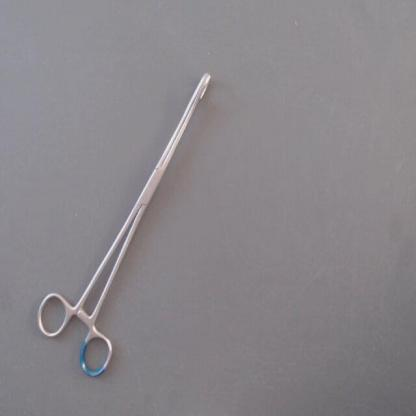Sponge Forceps: (30, 61, 223, 387)
